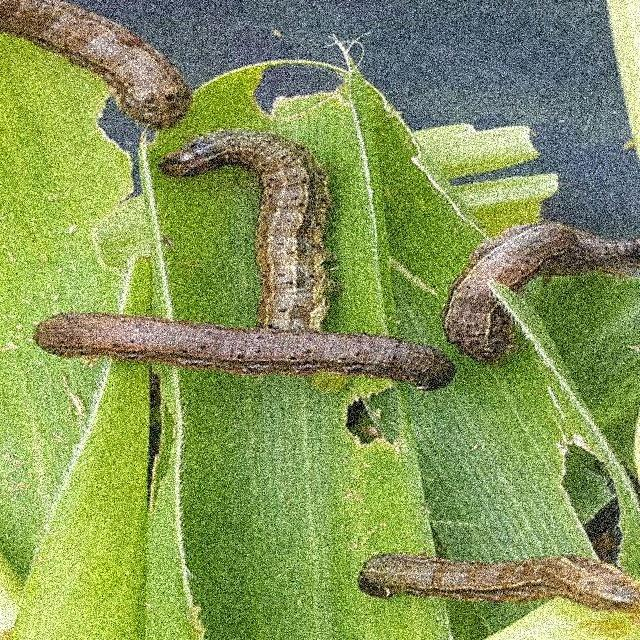gusano_cogollero: (28, 309, 458, 419)
